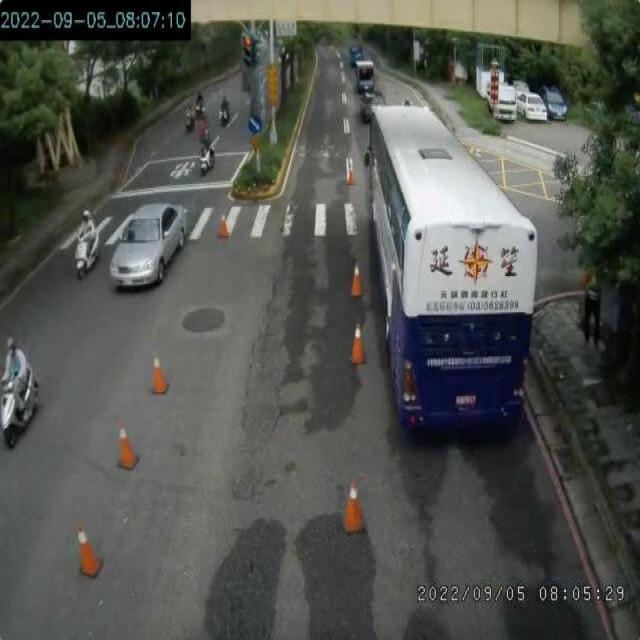Bus: (363, 102, 538, 440)
Car: (108, 201, 190, 291)
Motorcycle: (0, 335, 40, 448)
Traffic-light: (241, 33, 255, 66)
